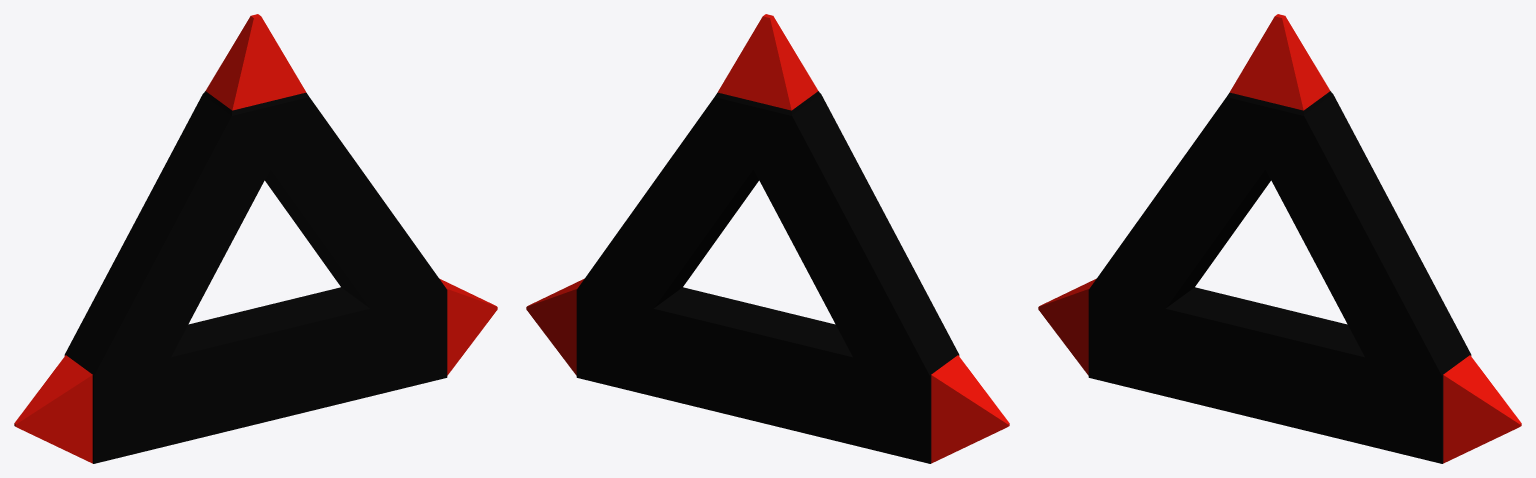
Rendered from SpinningShooter.fbx.
3 renders of one model, left to right at view 1: azimuth 30°, elevation 25°; view 2: azimuth 150°, elevation 25°; view 3: azimuth 330°, elevation 25°, orthographic.
Visible parts, largest first — view 1: Cube; view 2: Cube; view 3: Cube.
Boxes of the visible parts, <box> form: Cube: <box>14,14,497,463</box>; Cube: <box>526,14,1009,463</box>; Cube: <box>1038,14,1521,463</box>.
Bounding box in the file's own units: 523 × 410 × 55.15.
